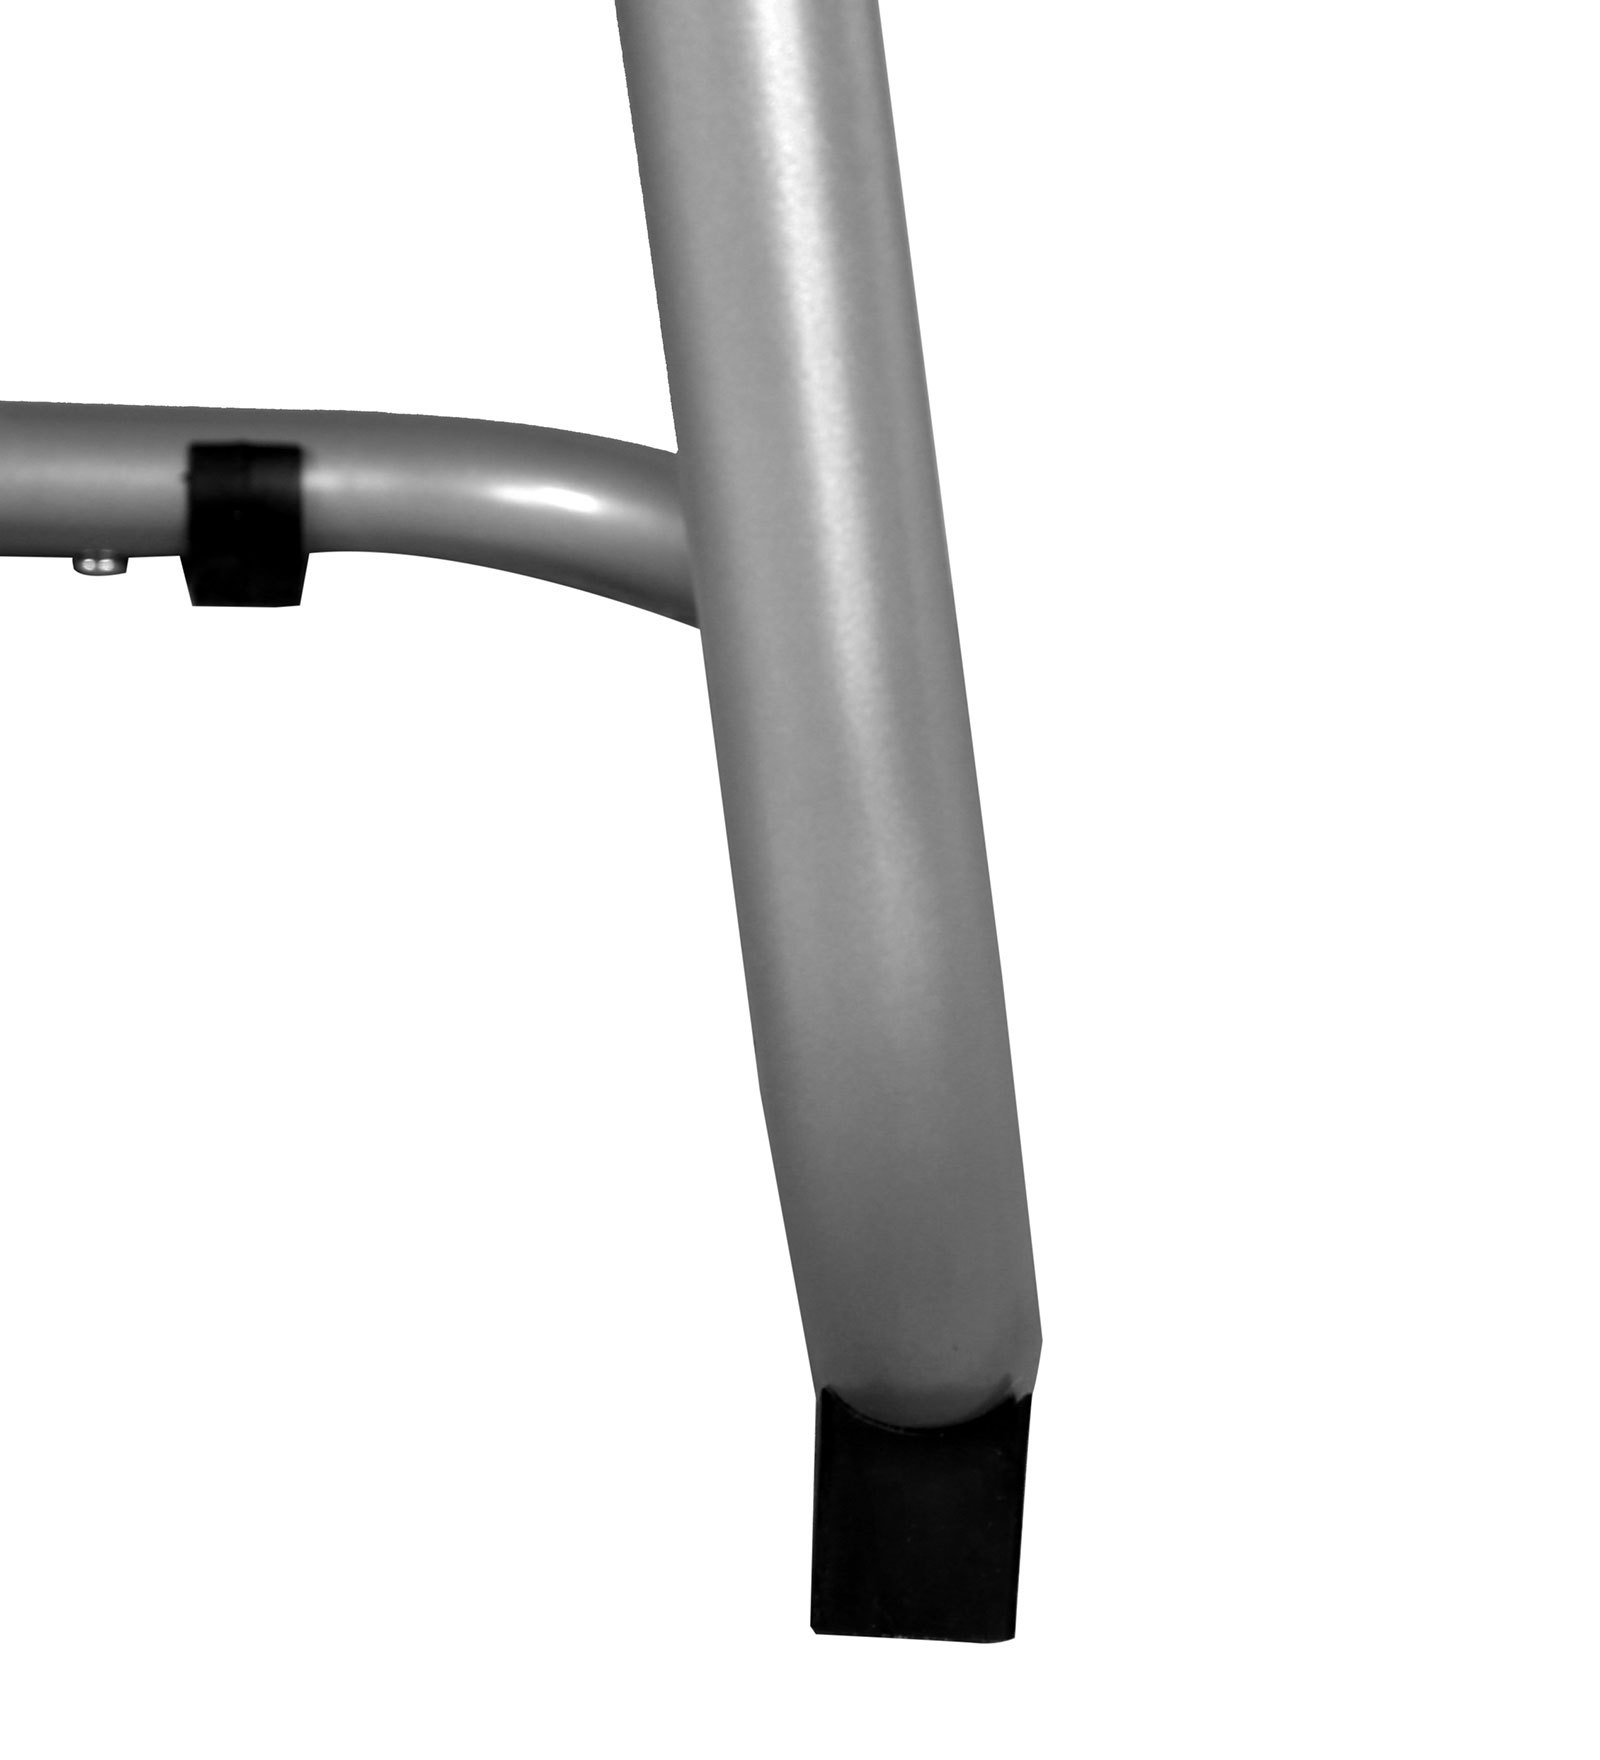Hugo Leatherette Ergonomic Chair by Hometown: (14, 8, 1146, 1696)
